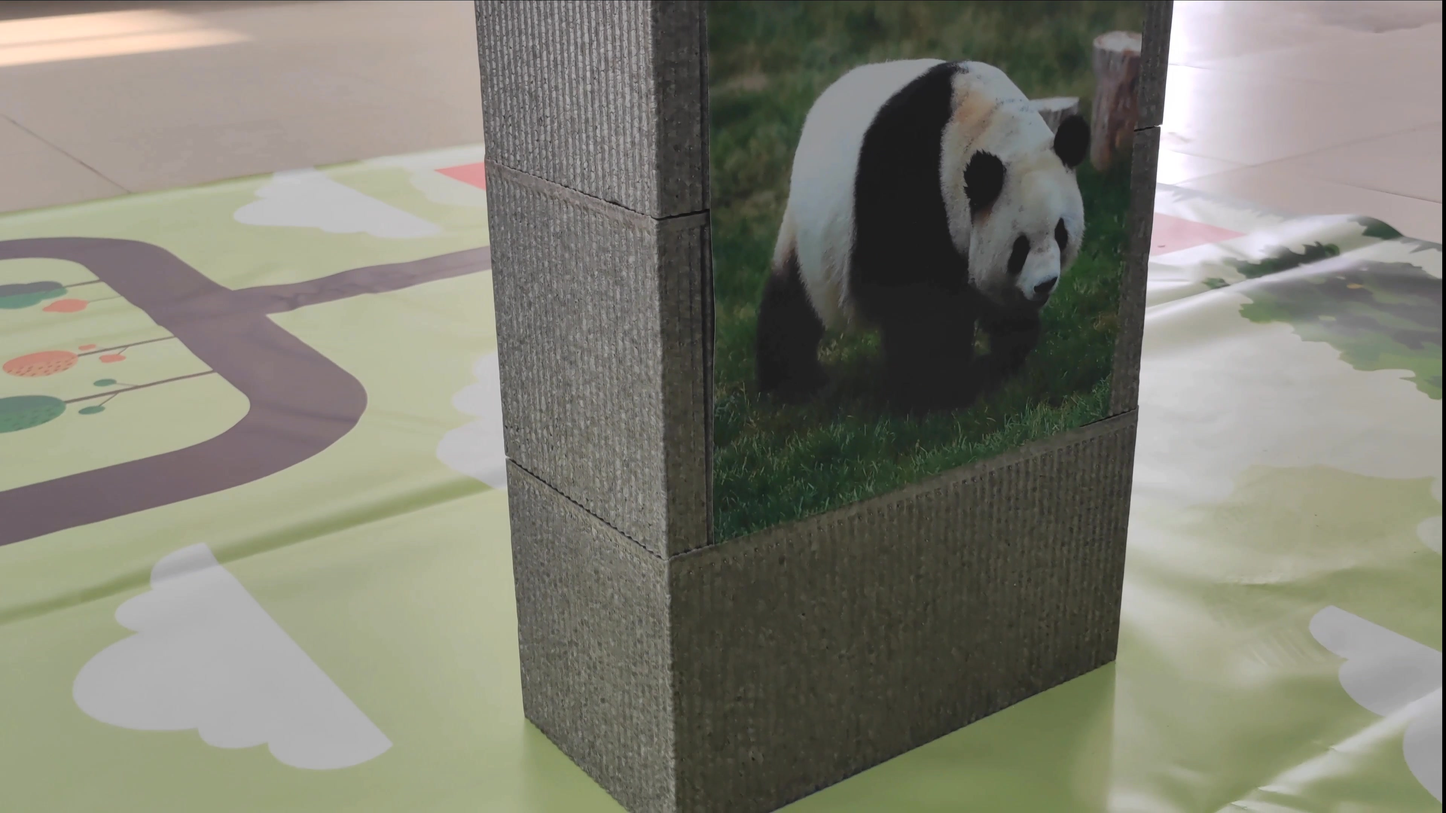panda: (736, 50, 1112, 405)
